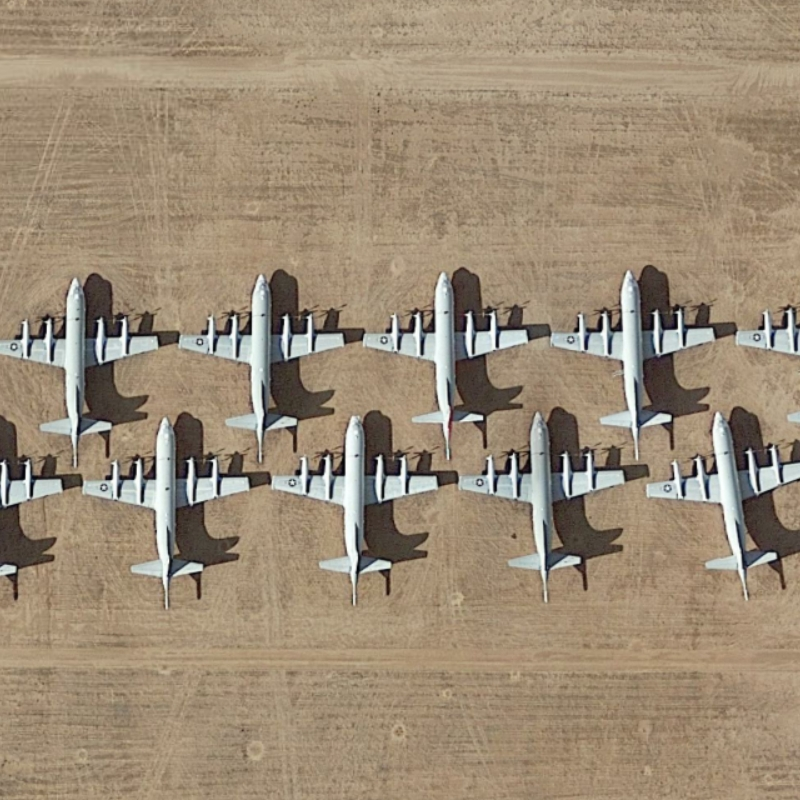A9: (452, 406, 634, 611), (79, 411, 259, 616), (547, 261, 730, 461), (269, 413, 448, 617), (362, 261, 538, 466), (174, 269, 355, 458), (3, 268, 166, 466), (644, 401, 800, 604)
